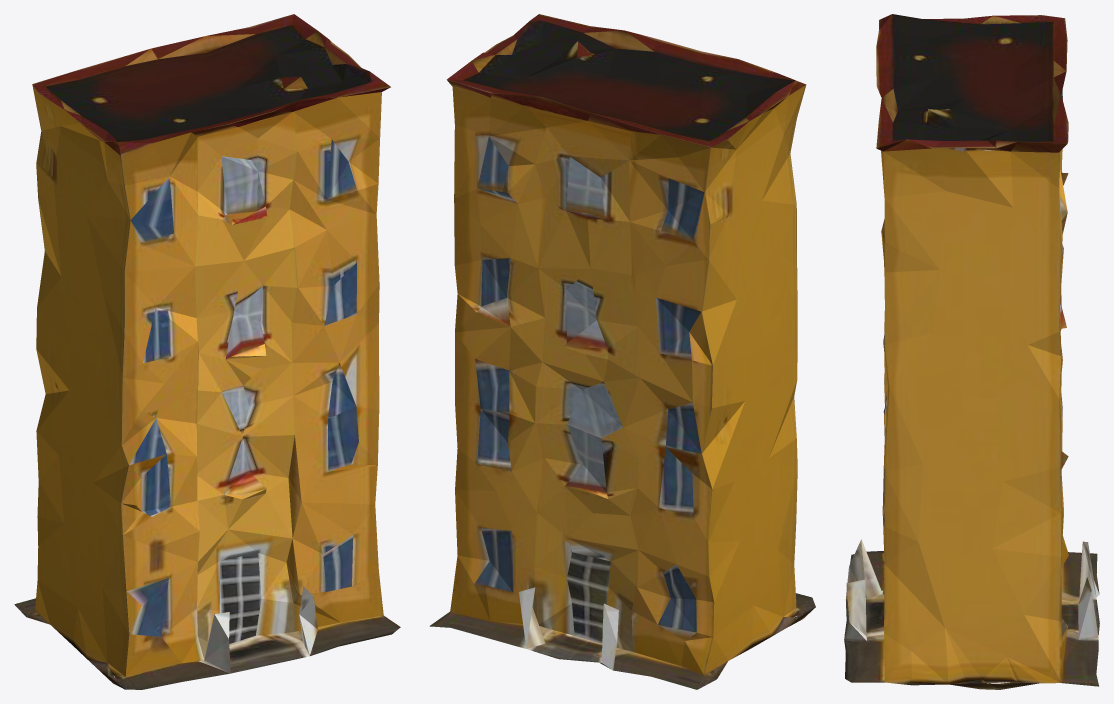
Rendered from city_apartments_low.glb.
The picture shows the model from 3 angles, left to right: view 1: azimuth 30°, elevation 25°; view 2: azimuth 150°, elevation 25°; view 3: azimuth 270°, elevation 25°; orthographic projection.
Parts seen in each view (by area): view 1: m; view 2: m; view 3: m.
Boxes of the visible parts, box(x1,y1,x2,y2) form: m: box(14, 14, 400, 689); m: box(429, 14, 815, 689); m: box(844, 14, 1099, 689).
Bounding box in the file's own units: 9.46 × 18 × 7.6.
1 material, 1 textured.
